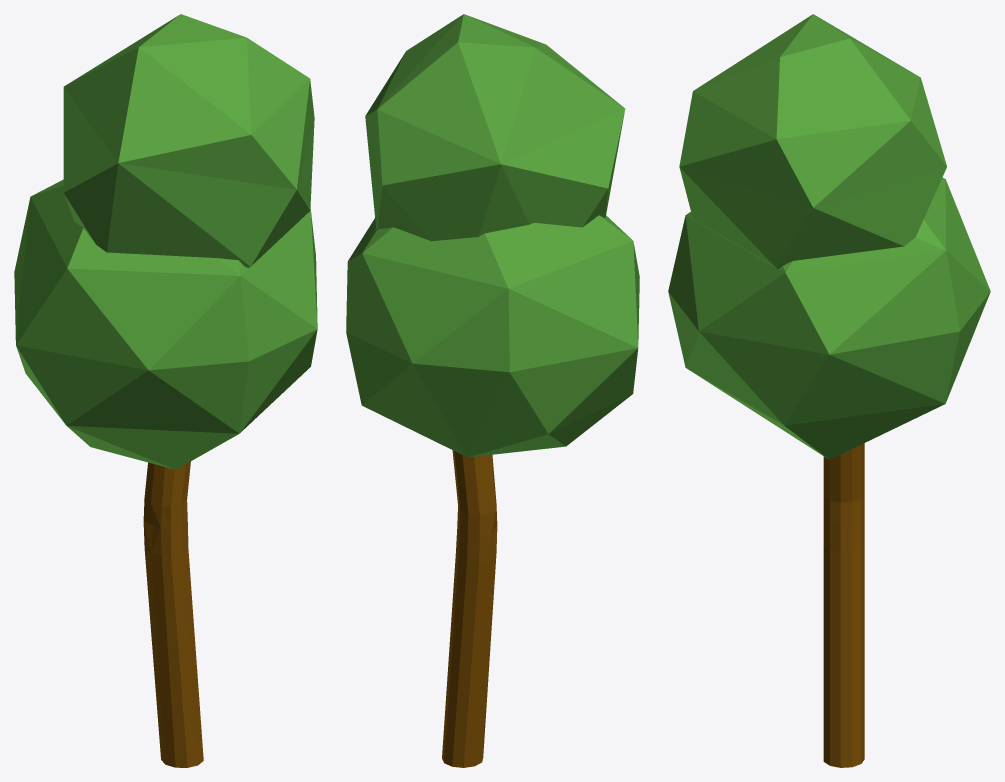
The model's file is tree2.fbx.
3 renders of one model, left to right at view 1: azimuth 30°, elevation 25°; view 2: azimuth 150°, elevation 25°; view 3: azimuth 270°, elevation 25°, orthographic. The views are drawn at different scales.
Parts seen in each view (by area): view 1: Icosphere.001, Icosphere.002, Cylinder; view 2: Icosphere.001, Icosphere.002, Cylinder; view 3: Icosphere.001, Icosphere.002, Cylinder.
Boxes of the visible parts, x1=… form: Icosphere.001: x1=14, y1=179, x2=317, y2=469; Icosphere.002: x1=63, y1=14, x2=314, y2=267; Cylinder: x1=143, y1=461, x2=203, y2=767; Icosphere.001: x1=346, y1=215, x2=639, y2=457; Icosphere.002: x1=365, y1=14, x2=625, y2=241; Cylinder: x1=442, y1=450, x2=497, y2=767; Icosphere.001: x1=668, y1=177, x2=990, y2=459; Icosphere.002: x1=679, y1=14, x2=946, y2=268; Cylinder: x1=823, y1=443, x2=864, y2=767.
Bounding box in the file's own units: 209 × 493 × 200.
